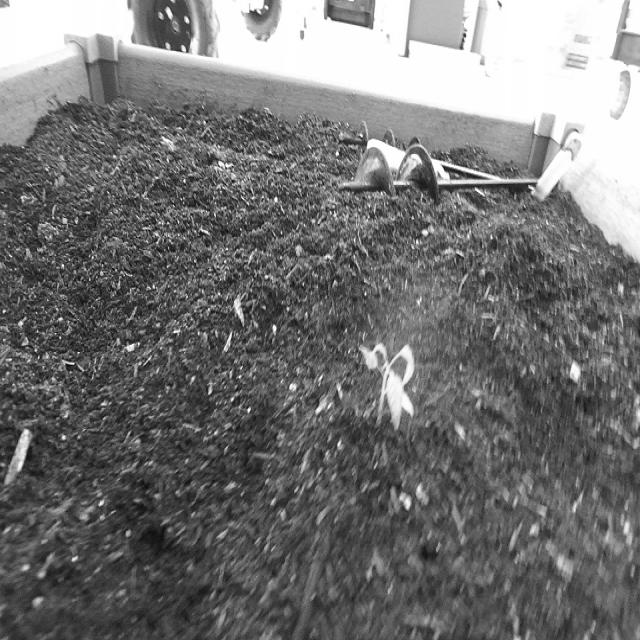Healthy: (349, 314, 426, 454)
